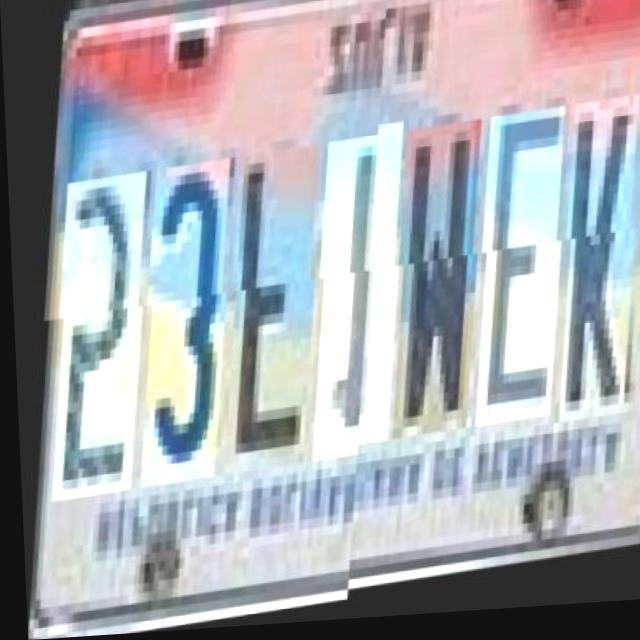1: (294, 134, 407, 462)
3: (122, 154, 235, 482)
5: (33, 165, 151, 494)
e: (458, 124, 569, 441)
f: (206, 144, 324, 471)
k: (540, 114, 640, 440)
m: (374, 134, 486, 451)
